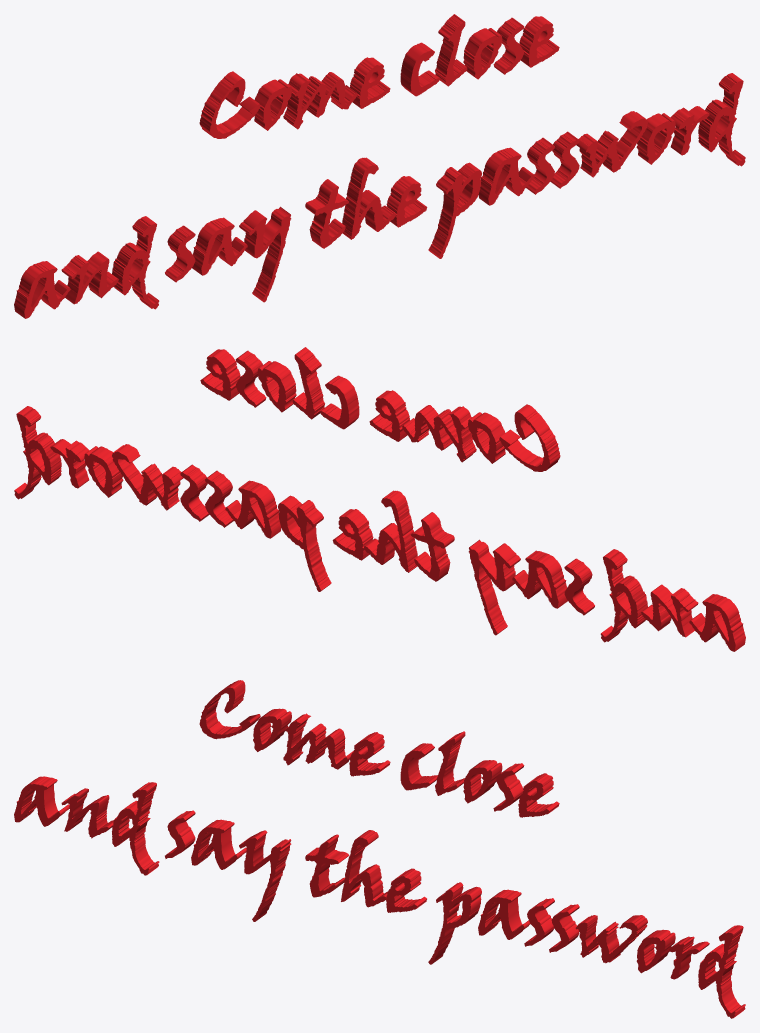
The model's file is writtingForLevel4Door.fbx.
The picture shows the model from 3 angles, top to bottom: view 1: azimuth 30°, elevation 25°; view 2: azimuth 150°, elevation 25°; view 3: azimuth 330°, elevation 25°; orthographic projection.
Visible parts, largest first — view 1: node_id68 (×2); view 2: node_id68 (×2); view 3: node_id68 (×2).
Boxes of the visible parts, <box> form: node_id68 (×2): <box>14,14,745,318</box>; node_id68 (×2): <box>14,347,745,651</box>; node_id68 (×2): <box>14,680,745,1018</box>.
Size of the model in its own units: 0.7625 by 0.2342 by 0.0188.
